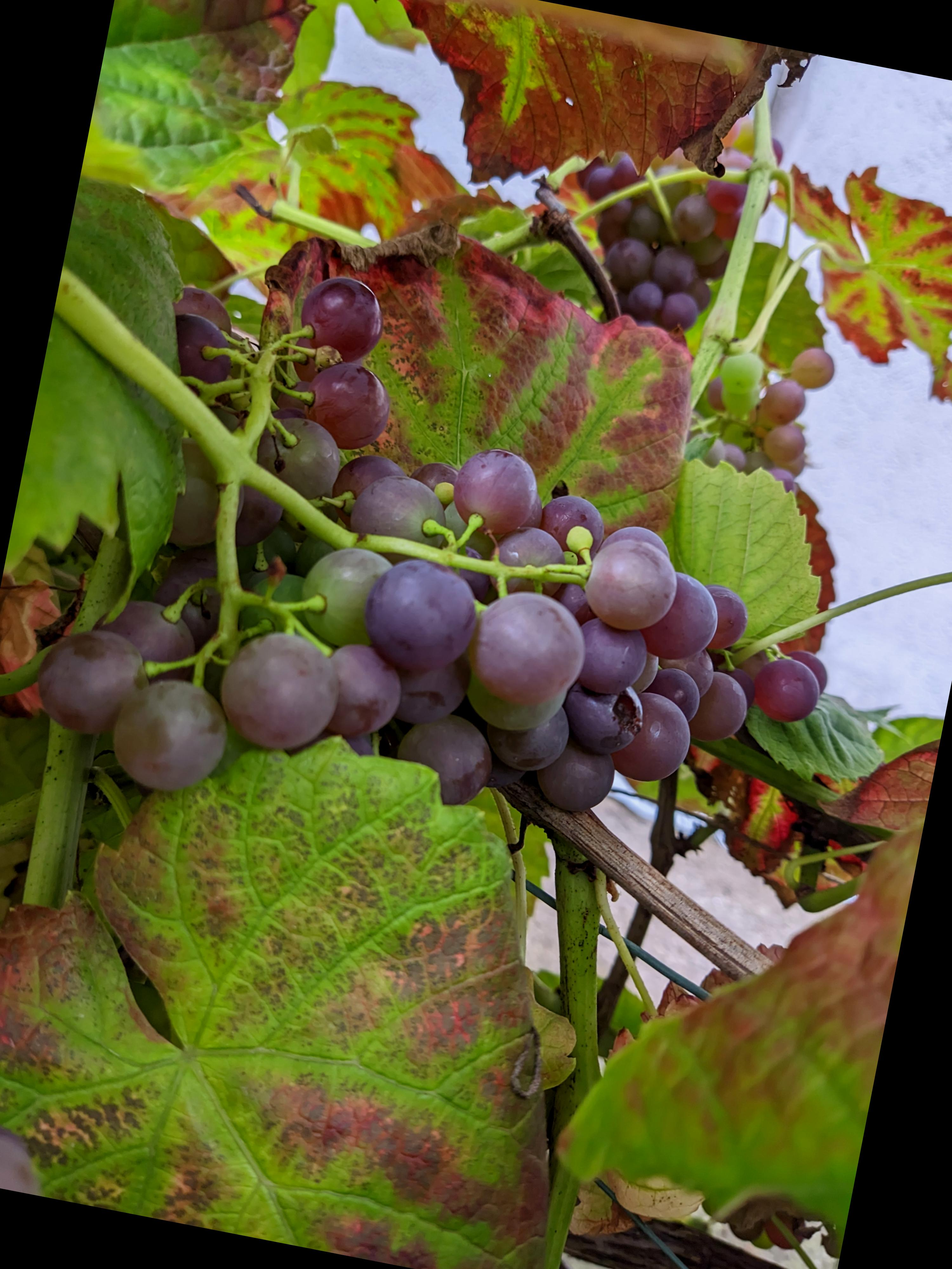Grape Unripe: (143, 160, 952, 838), (673, 33, 882, 283), (803, 248, 952, 433)
